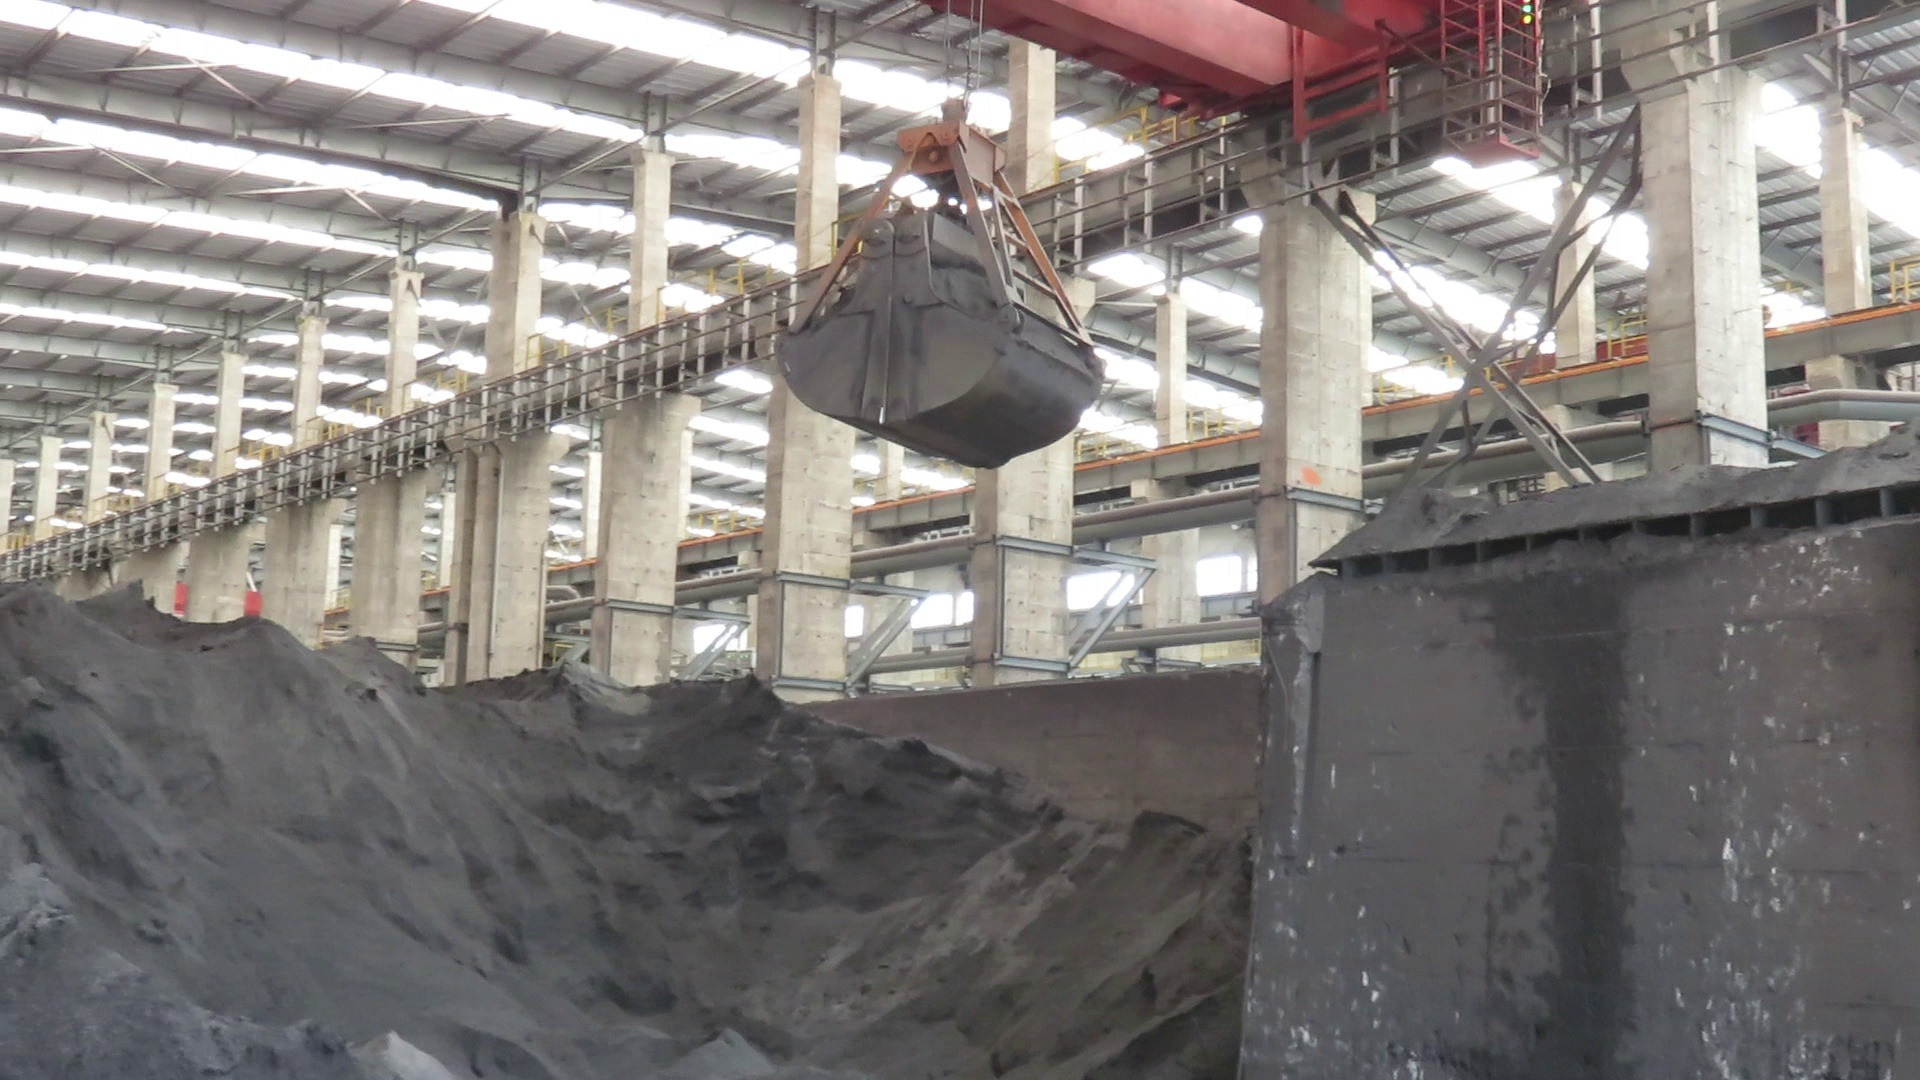grab: (771, 90, 1112, 471)
